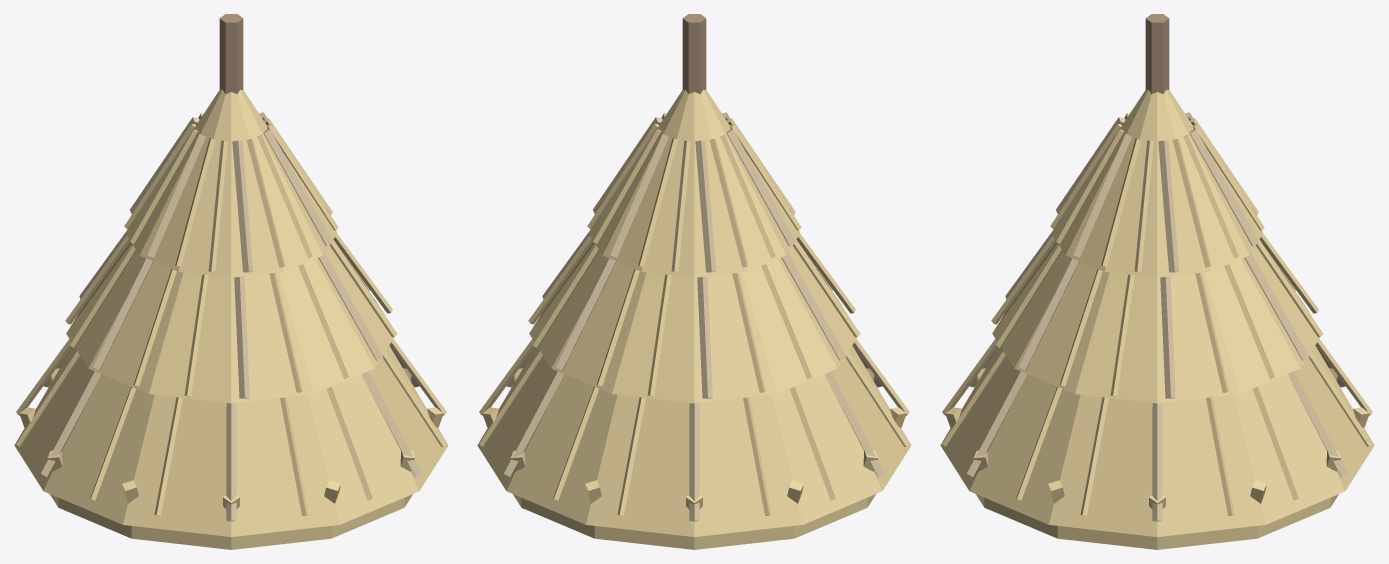
The model's file is haystack.glb.
The picture shows the model from 3 angles, left to right: view 1: azimuth 30°, elevation 25°; view 2: azimuth 150°, elevation 25°; view 3: azimuth 270°, elevation 25°; orthographic projection.
Parts seen in each view (by area): view 1: haystack_hay, haystack_dry-hay, haystack_stake; view 2: haystack_hay, haystack_dry-hay, haystack_stake; view 3: haystack_hay, haystack_dry-hay, haystack_stake.
Part boxes in pixels (box(x1,y1,x2,y2)): haystack_hay: box(14, 89, 448, 549); haystack_dry-hay: box(41, 112, 421, 521); haystack_stake: box(219, 14, 243, 94); haystack_hay: box(477, 89, 911, 549); haystack_dry-hay: box(504, 112, 884, 521); haystack_stake: box(682, 14, 706, 94); haystack_hay: box(940, 89, 1374, 549); haystack_dry-hay: box(967, 112, 1347, 521); haystack_stake: box(1145, 14, 1169, 94).
Size of the model in its own units: 0.5951 by 0.667 by 0.5867.
